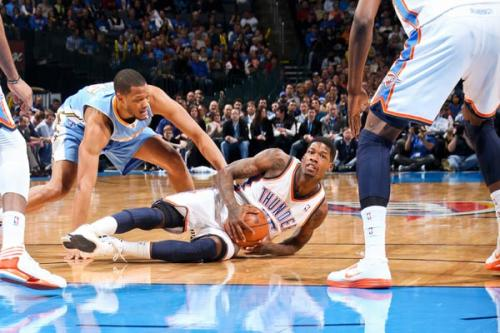10+: (1, 1, 498, 294)
down: (57, 134, 343, 269)
